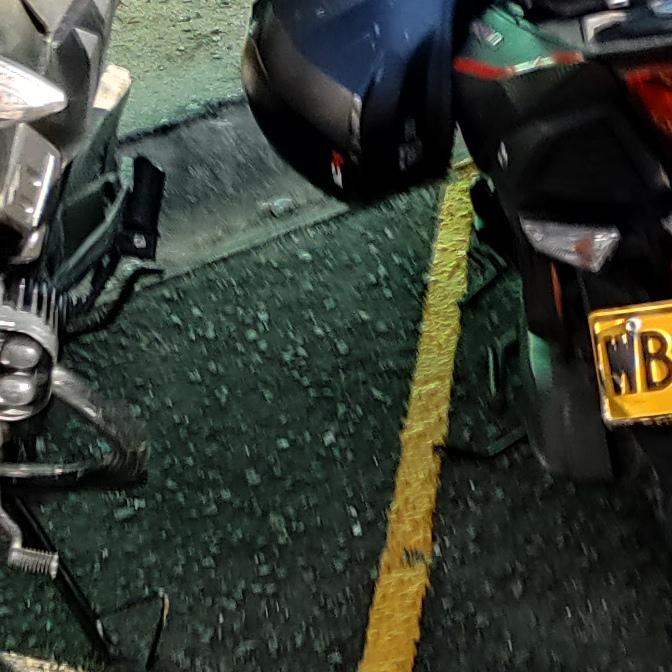plates: (589, 304, 672, 425)
